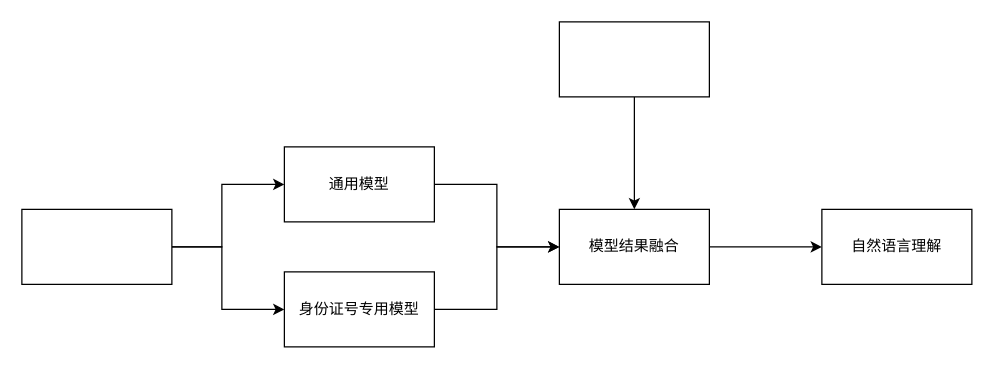
Some shapes in this 994 by 369 pixel diagram are drawn without their labels. Each missing label, with the centre of its shape:
用户信息数据库: the point at 633,59
用户语音: the point at 96,246
